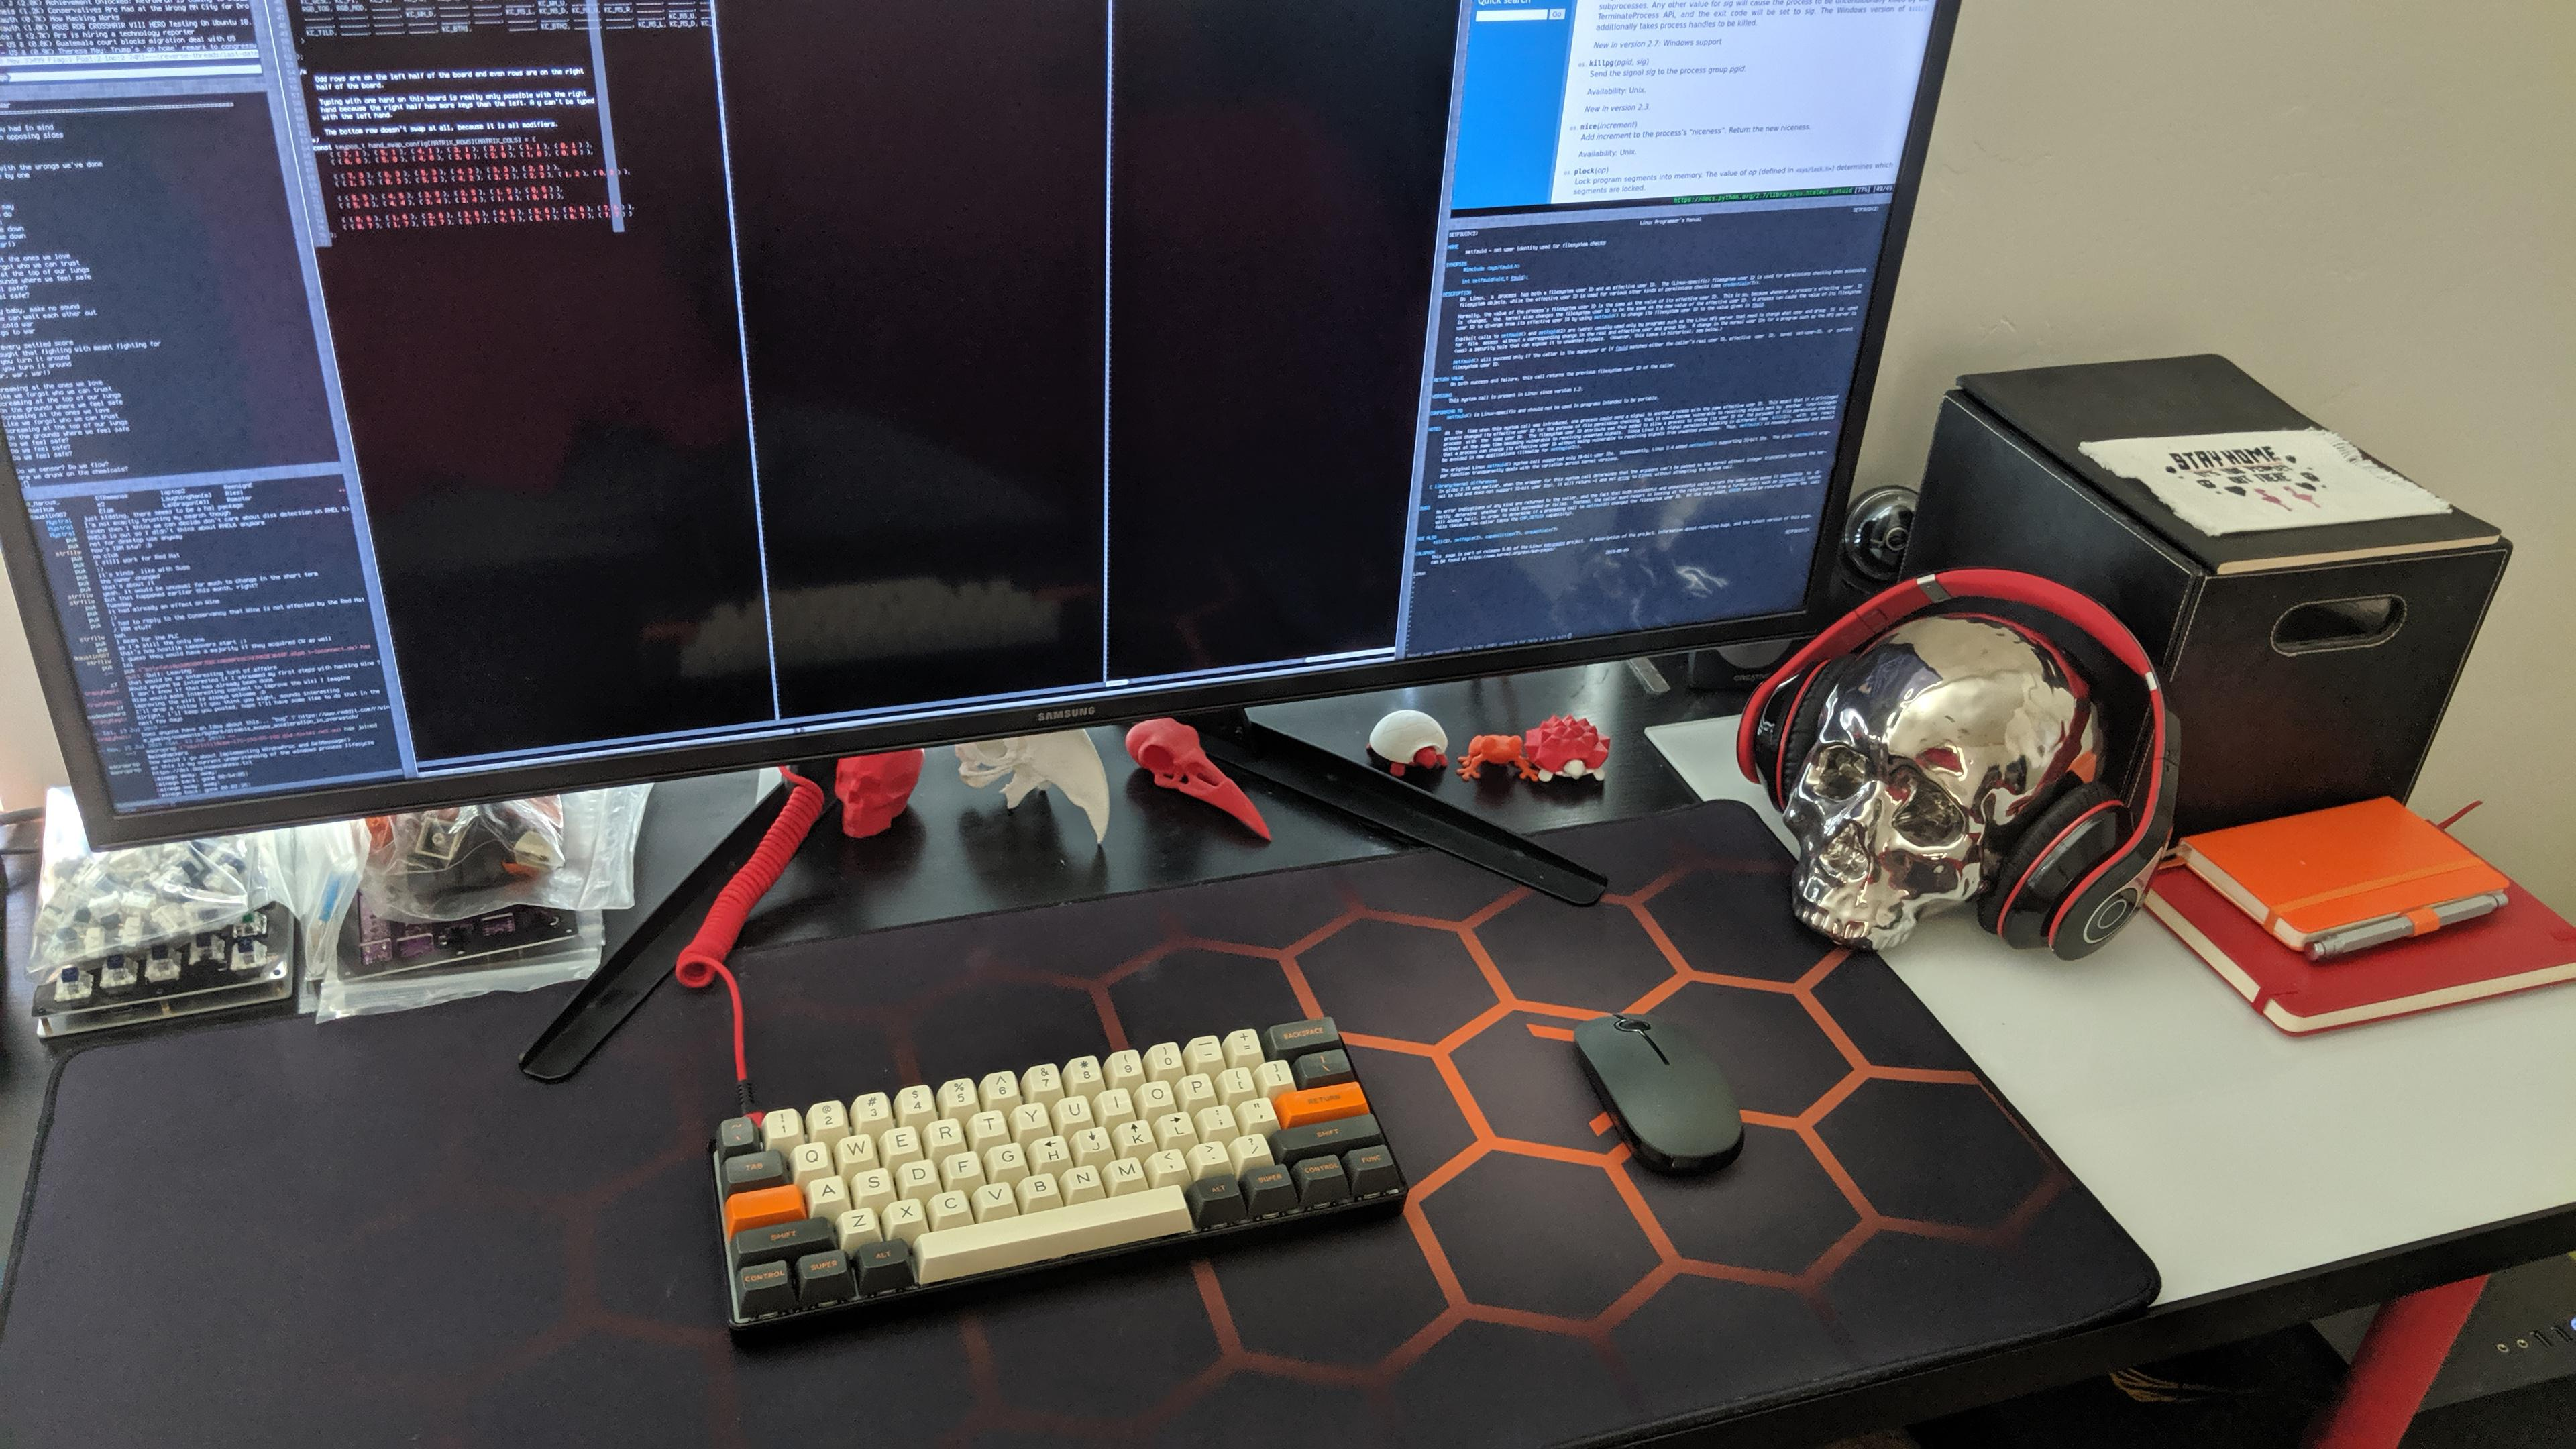keyboard: (681, 989, 1431, 1362)
monitor: (0, 4, 1907, 855)
mouse: (1539, 978, 1789, 1201)
